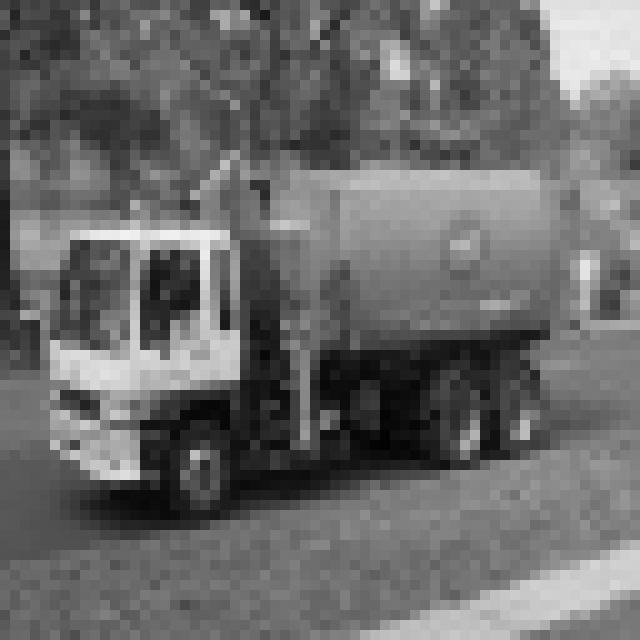trucks: (43, 152, 591, 520)
